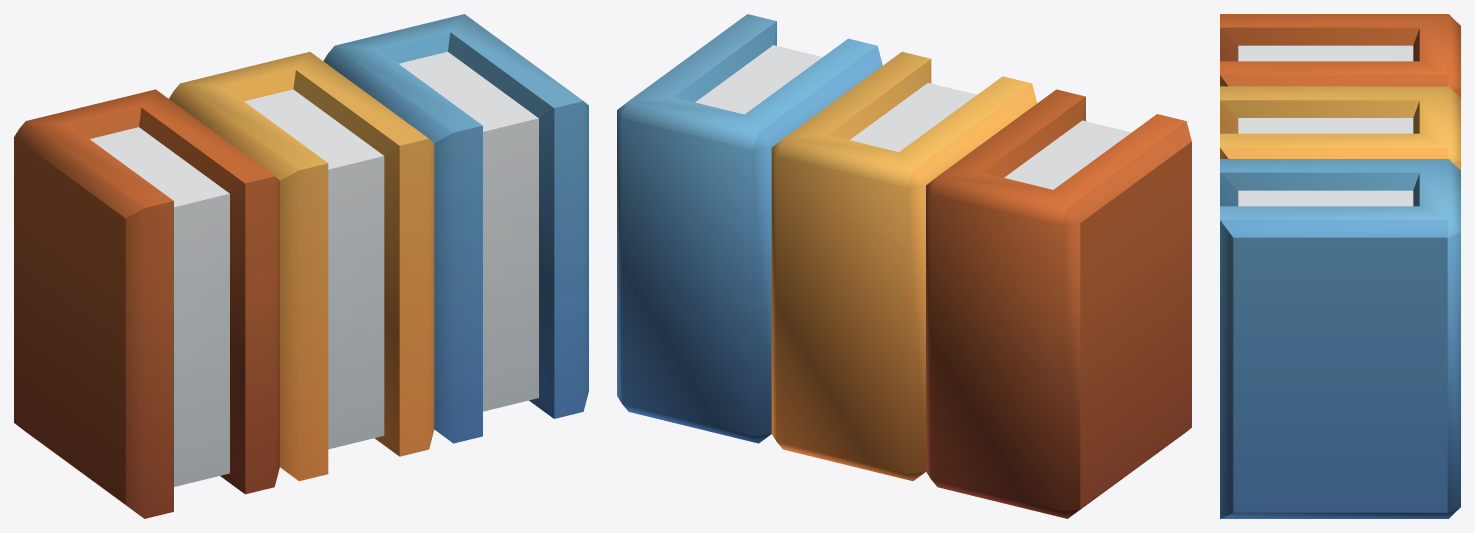
File: books-v1.glb
3 renders of one model, left to right at view 1: azimuth 30°, elevation 25°; view 2: azimuth 150°, elevation 25°; view 3: azimuth 270°, elevation 25°, orthographic. The views are drawn at different scales.
Parts seen in each view (by area): view 1: book_set; view 2: book_set; view 3: book_set.
Part boxes in pixels (bbox=[...]): book_set: bbox=[14, 14, 588, 518]; book_set: bbox=[617, 14, 1191, 518]; book_set: bbox=[1220, 14, 1460, 518].
Size of the model in its own units: 0.312 by 0.2 by 0.146.
1 material, 1 textured.
